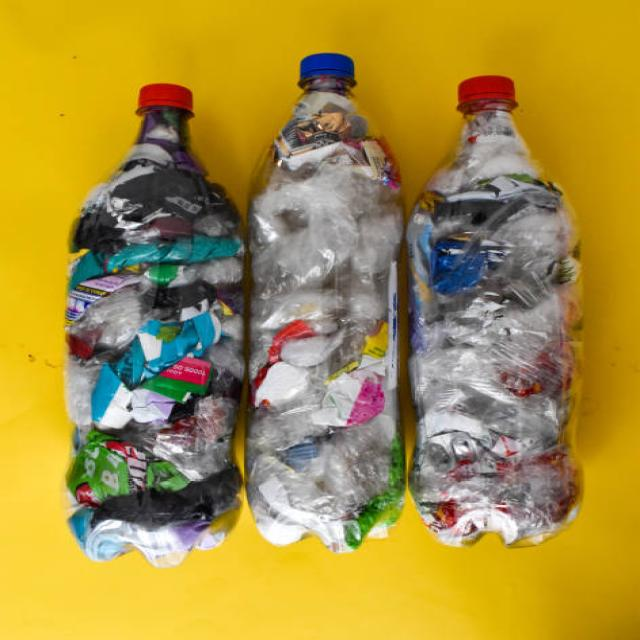plastic: (48, 54, 608, 551)
